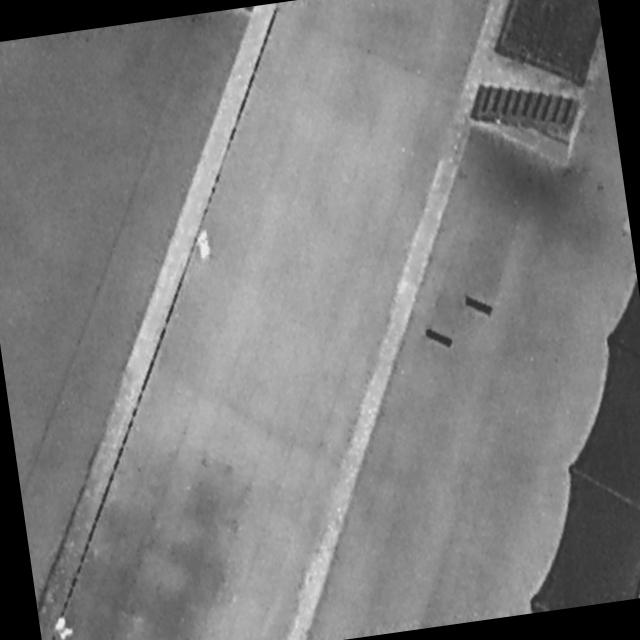person: (52, 615, 75, 640), (197, 230, 214, 263)
